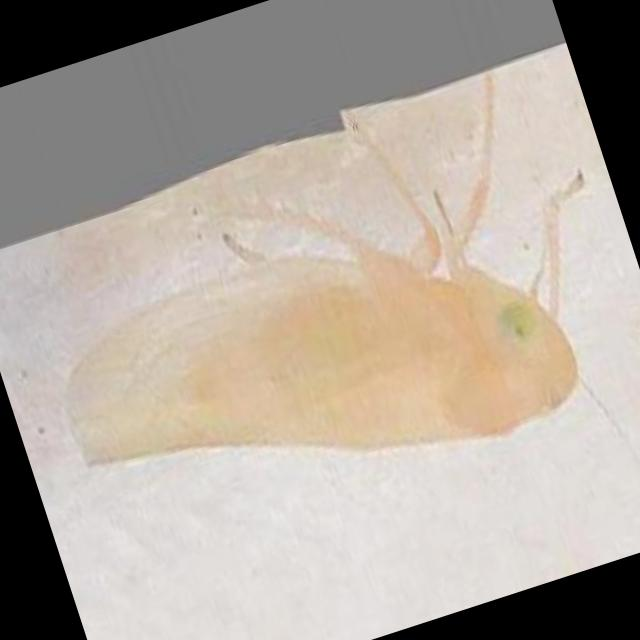green-leafhopper: (42, 196, 596, 560)
